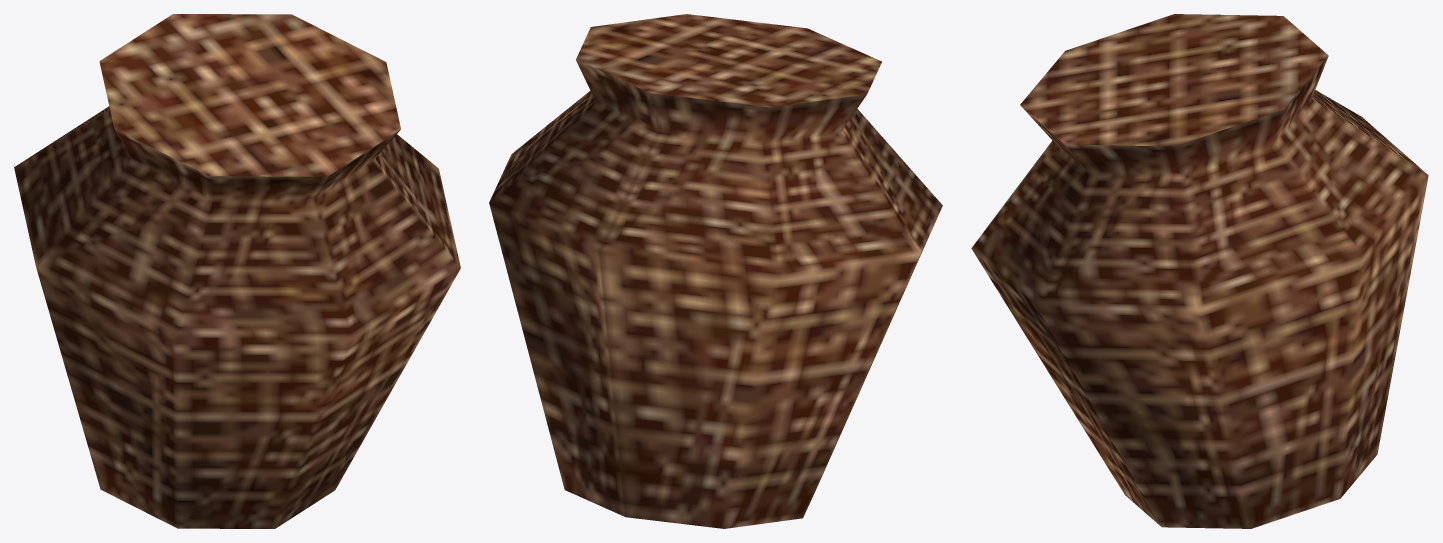
The model's file is luggage.dae.
3 views of the same model, side by side, from view 1: azimuth 30°, elevation 25°; view 2: azimuth 150°, elevation 25°; view 3: azimuth 270°, elevation 25° (orthographic).
Visible parts, largest first — view 1: Object1039; view 2: Object1039; view 3: Object1039.
Part boxes in pixels (<box>): Object1039: <box>14,14,460,528</box>; Object1039: <box>489,14,942,528</box>; Object1039: <box>971,14,1428,528</box>.
Size of the model in its own units: 1.44 by 1.51 by 1.42.
